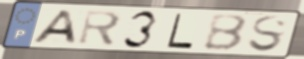3: (120, 10, 164, 50)
A: (29, 10, 80, 46)
B: (201, 14, 249, 53)
L: (165, 12, 196, 50)
R: (76, 8, 124, 48)
S: (246, 14, 290, 54)
